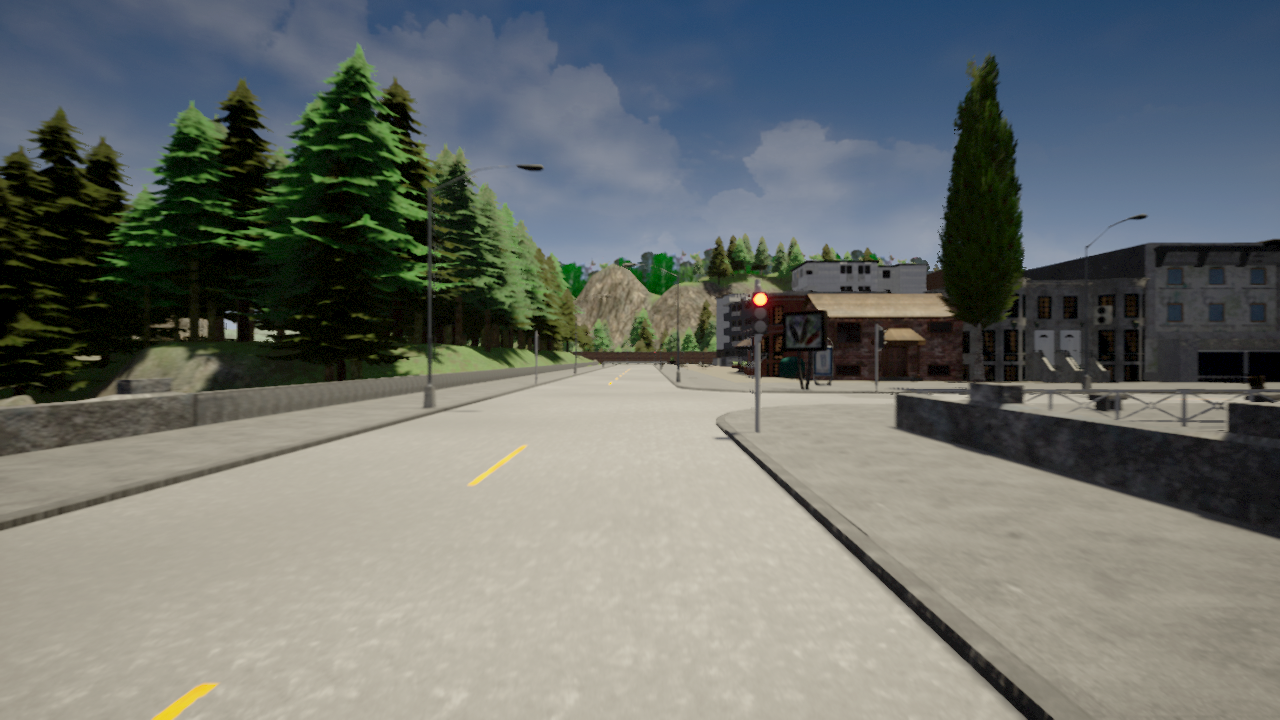red: (751, 291, 768, 335)
